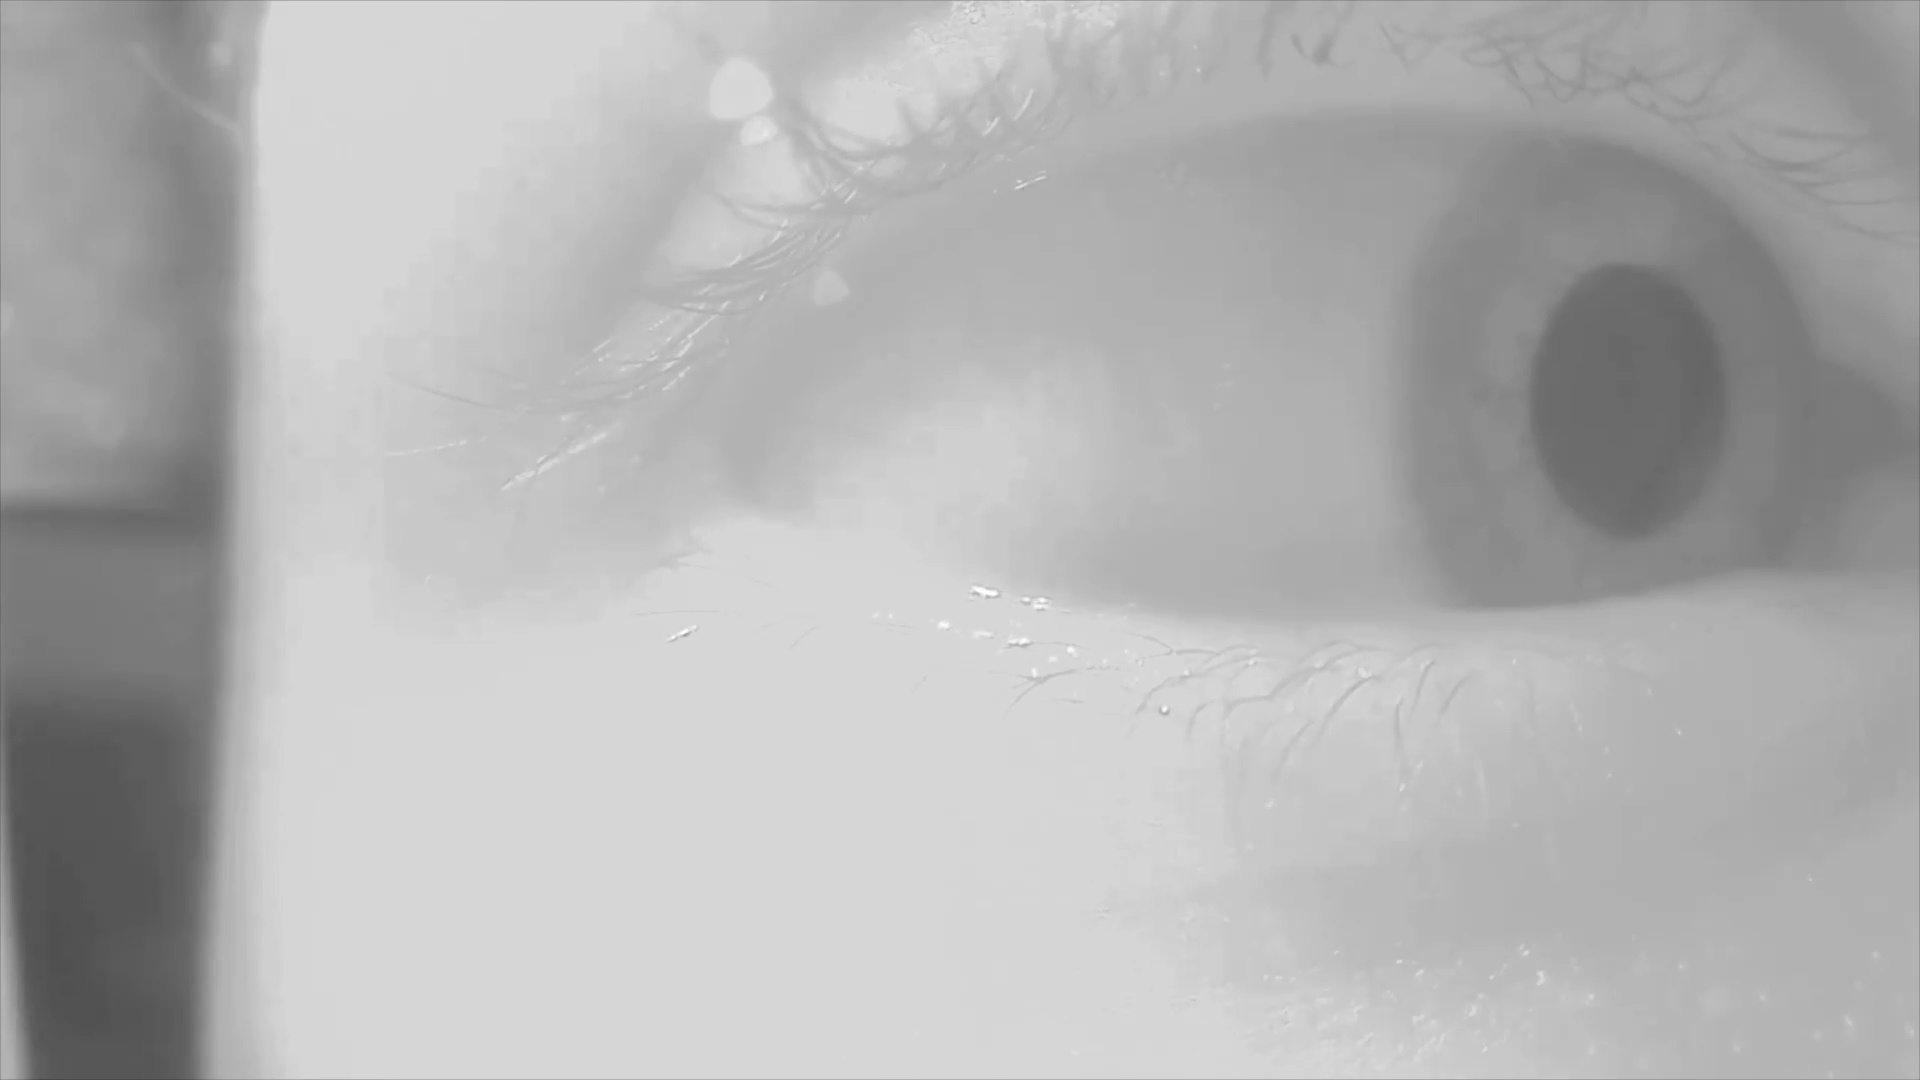pupil: (1529, 266, 1731, 544)
